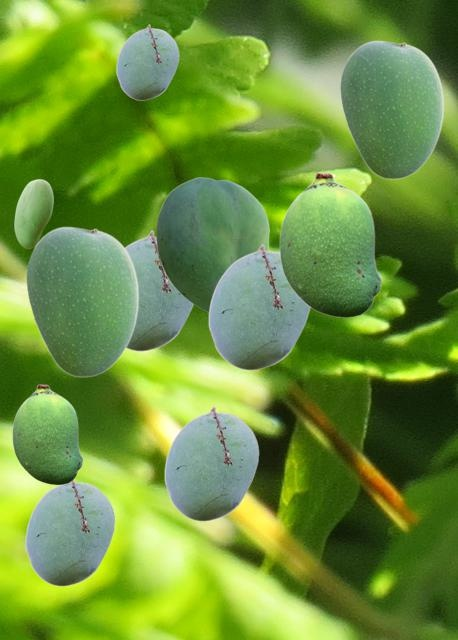green_mango: (26, 226, 138, 376), (156, 177, 268, 312), (279, 172, 381, 317), (340, 40, 443, 178), (208, 244, 310, 369), (164, 406, 258, 520), (25, 480, 114, 585), (125, 230, 193, 350), (12, 384, 82, 484), (116, 24, 178, 99), (14, 179, 52, 247)
